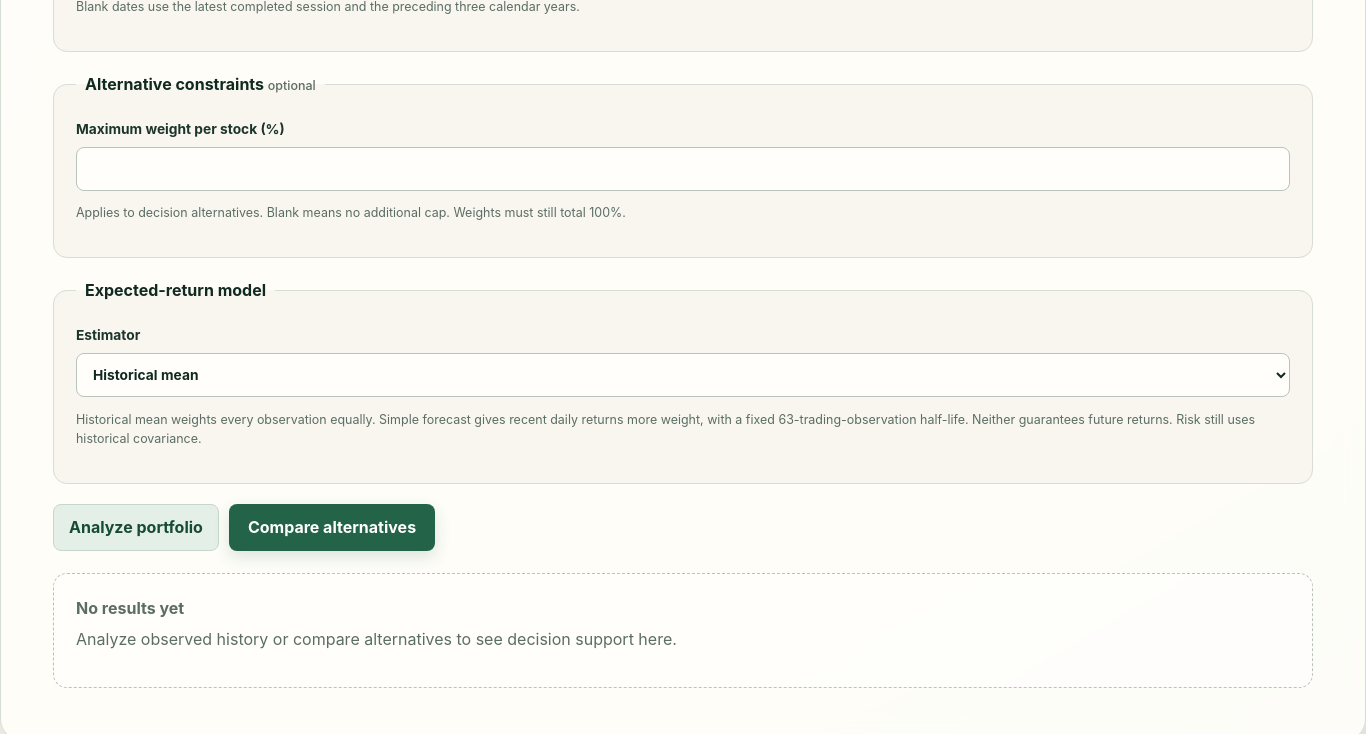
Test: Frontier decision workspace › ignores an old response after edits and a new request
(page scrolled)
Click the button "Compare alternatives" at (332, 527), box x1=229 y1=504 x2=435 y2=551
(page scrolled)
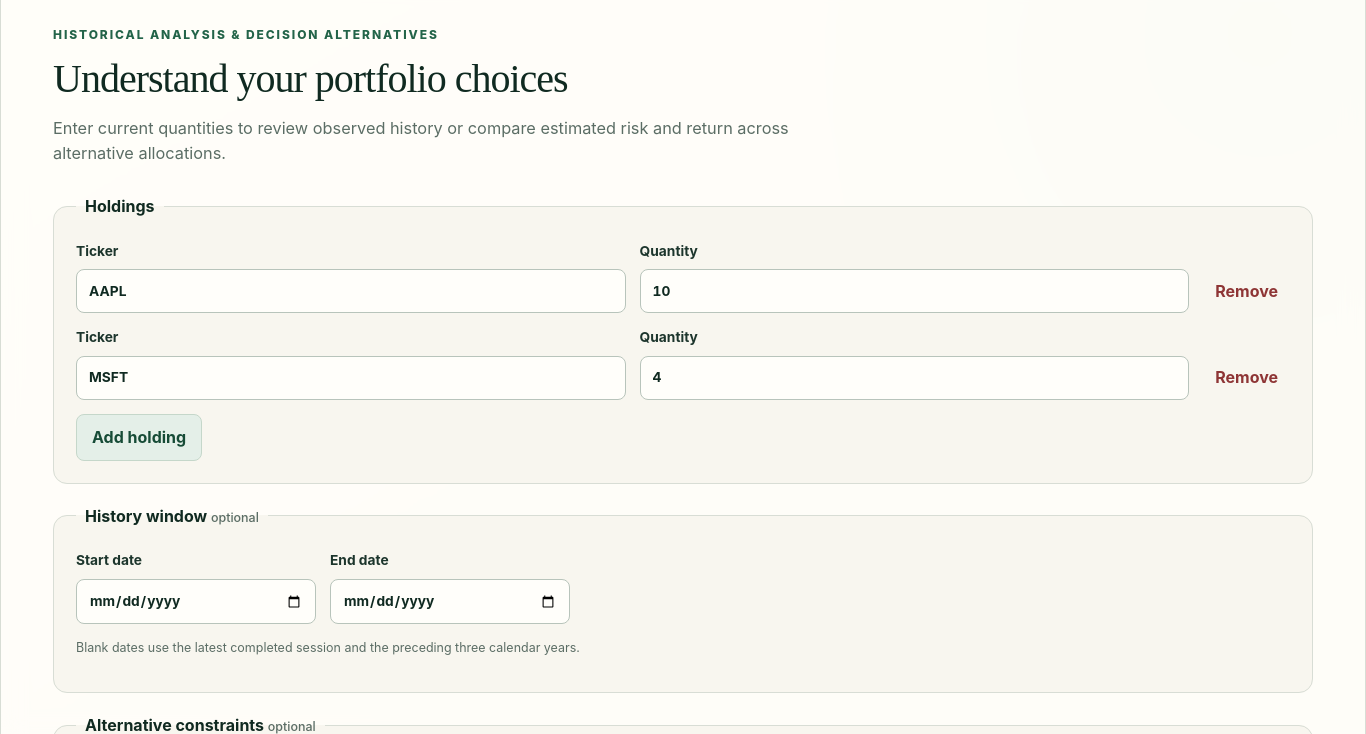
Replace the text in the number field named "Quantity 1" with "20" at (914, 292), box x1=640 y1=270 x2=1189 y2=314
(page scrolled)
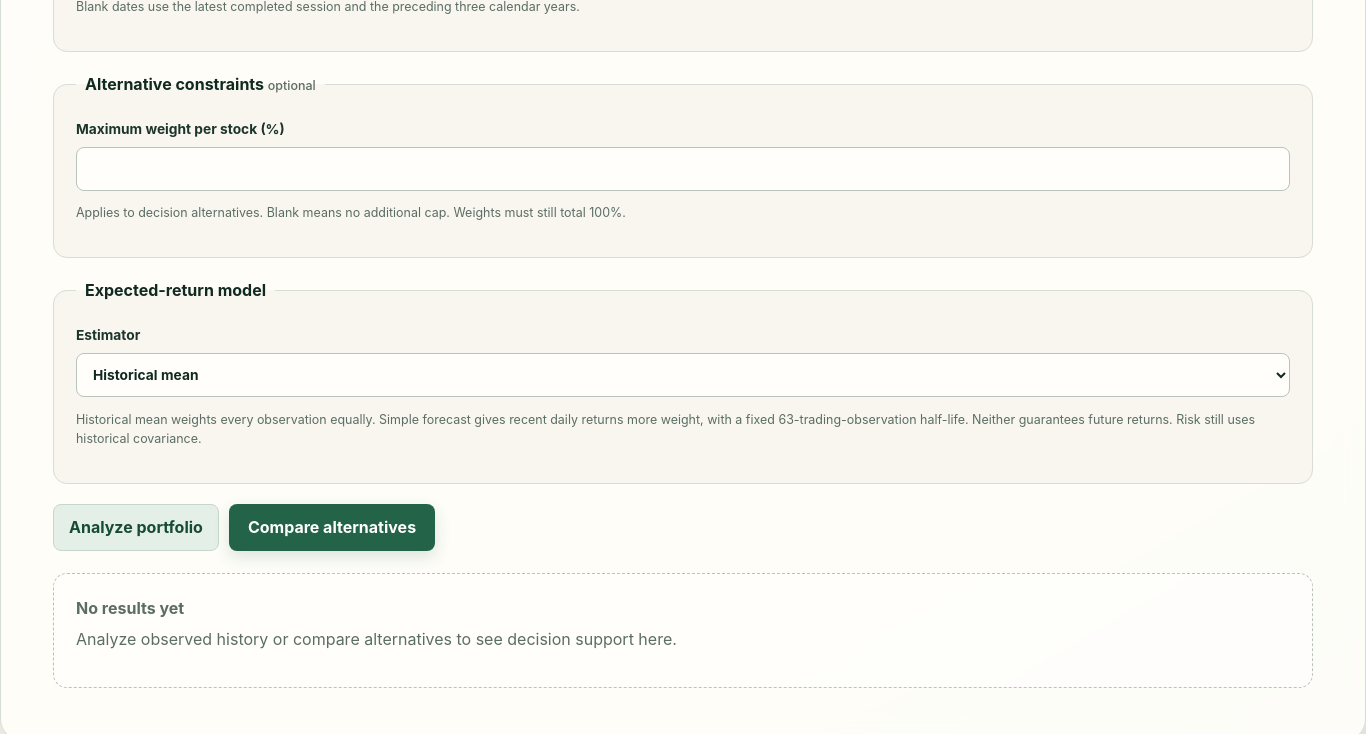
Click the button "Compare alternatives" at (332, 527), box x1=229 y1=504 x2=435 y2=551
(page scrolled)
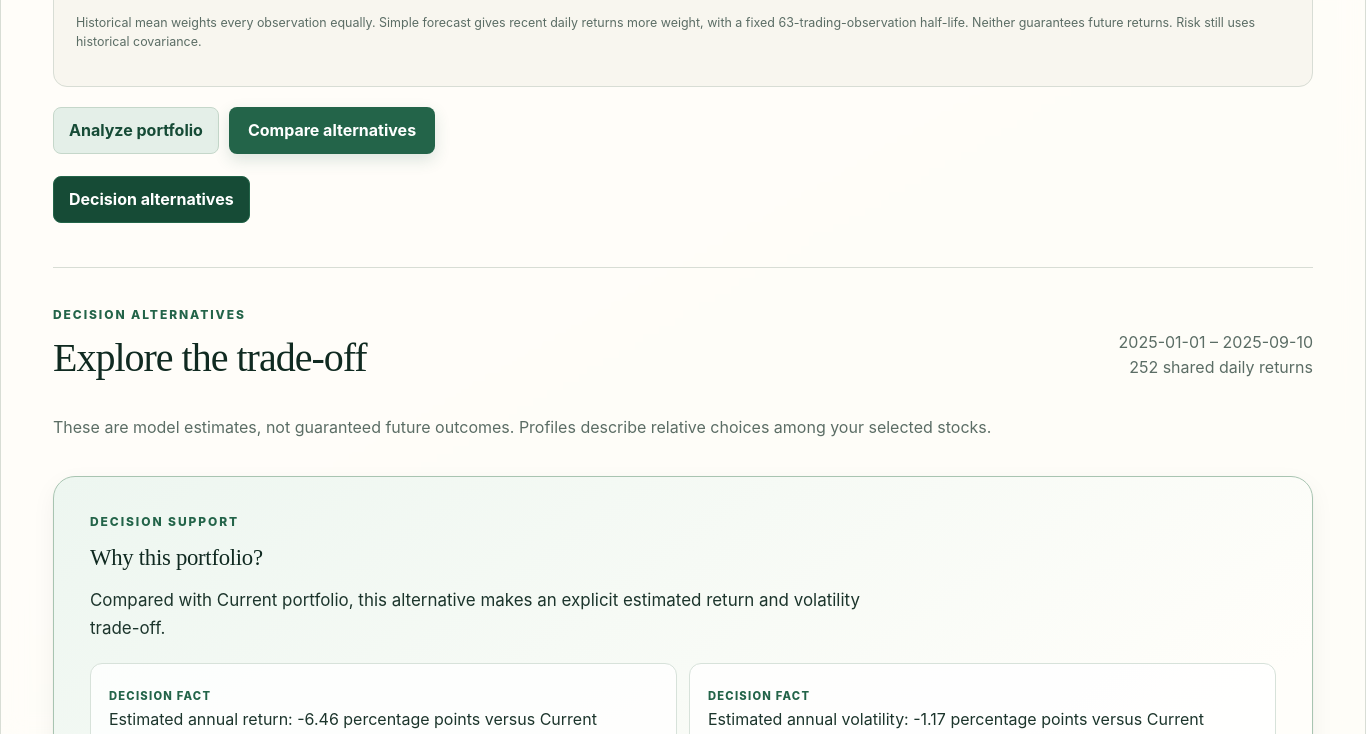
Expected: the heading "Explore the trade-off" is shown, x1=53 y1=336 x2=367 y2=379
